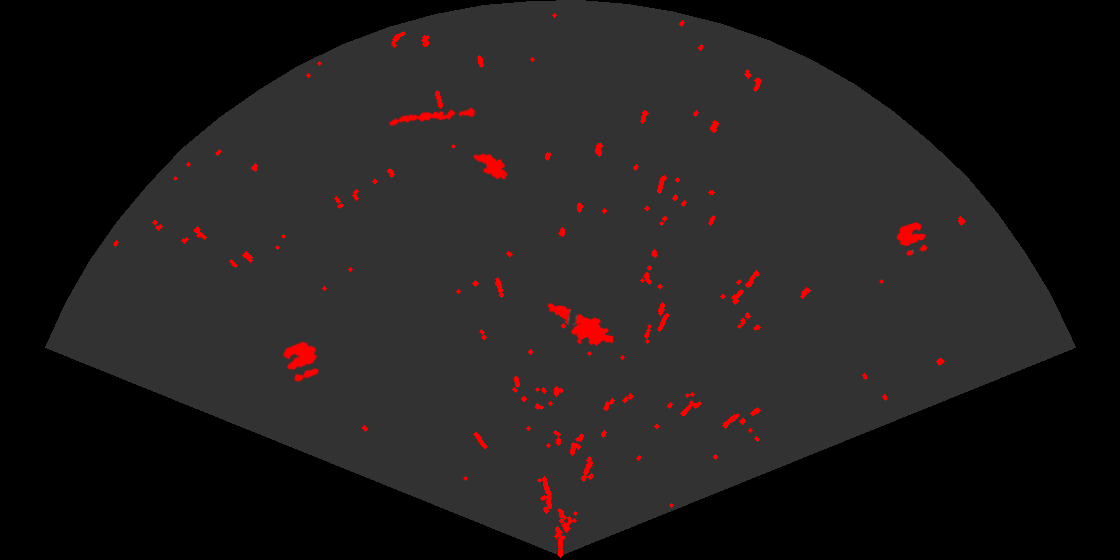AUV: (471, 152, 509, 181)
ball: (281, 340, 321, 384), (895, 221, 929, 257)
chain: (387, 106, 477, 128)
frogman: (546, 302, 613, 347)
